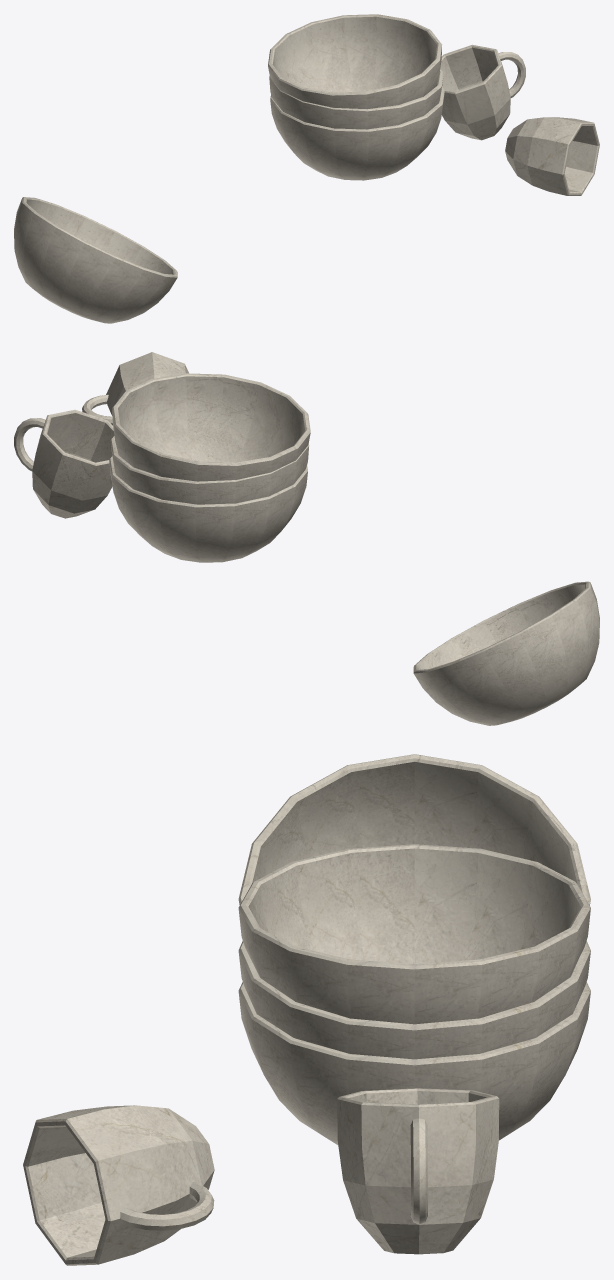
The model's file is DirtyDishes..fbx.
3 renders of one model, top to bottom at view 1: azimuth 30°, elevation 25°; view 2: azimuth 150°, elevation 25°; view 3: azimuth 270°, elevation 25°, orthographic. The views are drawn at different scales.
Visible parts, largest first — view 1: bowl__4_, bowl__2_, bowl__1_, cup1__1_, cup1, bowl__3_; view 2: bowl__4_, bowl__2_, bowl__1_, cup1, bowl__3_, cup1__1_; view 3: bowl__4_, bowl__2_, cup1__1_, cup1, bowl__1_, bowl__3_.
Part boxes in pixels (x1,y1,x2,y2): bowl__4_: [268, 14, 441, 109]; bowl__2_: [14, 197, 177, 323]; bowl__1_: [270, 87, 444, 180]; cup1__1_: [505, 117, 599, 195]; cup1: [440, 44, 525, 140]; bowl__3_: [269, 69, 443, 129]; bowl__4_: [112, 373, 310, 481]; bowl__2_: [413, 581, 599, 725]; bowl__1_: [109, 456, 307, 562]; cup1: [14, 409, 114, 518]; bowl__3_: [110, 436, 309, 504]; cup1__1_: [82, 352, 188, 425]; bowl__4_: [238, 844, 590, 1024]; bowl__2_: [238, 754, 590, 905]; cup1__1_: [23, 1105, 214, 1265]; cup1: [337, 1088, 499, 1254]; bowl__1_: [238, 982, 590, 1144]; bowl__3_: [238, 941, 590, 1059].
Bounding box in the file's own units: 112 × 43.88 × 54.77.
Materials: 1 (1 with a texture image).
